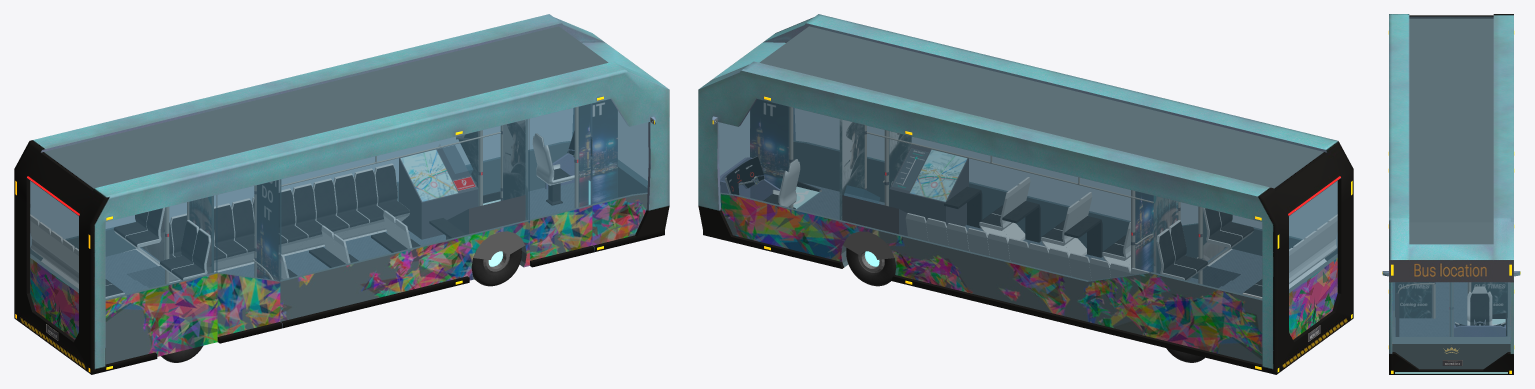
The model's file is bus_aero.glb.
3 views of the same model, side by side, from view 1: azimuth 30°, elevation 25°; view 2: azimuth 150°, elevation 25°; view 3: azimuth 270°, elevation 25° (orthographic). The views are drawn at different scales.
Visible parts, largest first — view 1: DetalhesExterno5, DetalhesExterno1, Vidros, BancosEMesas, Anuncios, PortaDiantera, PortaTraseira, Totem1, TetoeChao, BarrasInterno, Motor, Pneu (+2 smaller); view 2: DetalhesExterno5, Vidros, DetalhesExterno1, BancosEMesas, Anuncios, Totem1, TetoeChao, BarrasInterno, Cabine1, PortaDiantera, Motor, Pneu (+2 smaller); view 3: DetalhesExterno5, DetalhesExterno1, Vidros, TetoeChao, Anuncios, BancosEMesas, Cabine1, FaroisEPlacas, BarrasInterno, LedsInterno.
Boxes of the visible parts, x1=… form: DetalhesExterno5: x1=30, y1=26, x2=647, y2=364; DetalhesExterno1: x1=14, y1=14, x2=669, y2=374; Vidros: x1=30, y1=99, x2=648, y2=299; BancosEMesas: x1=30, y1=133, x2=574, y2=298; Anuncios: x1=142, y1=99, x2=617, y2=280; PortaDiantera: x1=528, y1=103, x2=594, y2=267; PortaTraseira: x1=216, y1=180, x2=282, y2=343; Totem1: x1=399, y1=139, x2=525, y2=239; TetoeChao: x1=105, y1=183, x2=574, y2=293; BarrasInterno: x1=165, y1=107, x2=578, y2=284; Motor: x1=473, y1=231, x2=524, y2=273; Pneu: x1=471, y1=248, x2=521, y2=286; DetalhesExterno5: x1=720, y1=26, x2=1337, y2=364; Vidros: x1=719, y1=99, x2=1337, y2=299; DetalhesExterno1: x1=698, y1=14, x2=1353, y2=374; BancosEMesas: x1=763, y1=159, x2=1337, y2=298; Anuncios: x1=750, y1=99, x2=1225, y2=273; Totem1: x1=842, y1=144, x2=968, y2=236; TetoeChao: x1=797, y1=183, x2=1262, y2=293; BarrasInterno: x1=789, y1=107, x2=1202, y2=283; Cabine1: x1=720, y1=156, x2=779, y2=200; PortaDiantera: x1=847, y1=126, x2=884, y2=202; Motor: x1=843, y1=231, x2=894, y2=272; Pneu: x1=846, y1=248, x2=896, y2=286; DetalhesExterno5: x1=1392, y1=18, x2=1510, y2=369; DetalhesExterno1: x1=1389, y1=14, x2=1513, y2=374; Vidros: x1=1392, y1=282, x2=1510, y2=343; TetoeChao: x1=1395, y1=282, x2=1507, y2=336; Anuncios: x1=1395, y1=282, x2=1507, y2=336; BancosEMesas: x1=1467, y1=286, x2=1492, y2=325; Cabine1: x1=1454, y1=322, x2=1505, y2=336; FaroisEPlacas: x1=1382, y1=31, x2=1520, y2=373; BarrasInterno: x1=1397, y1=282, x2=1471, y2=336; LedsInterno: x1=1395, y1=293, x2=1507, y2=336.
Bounding box in the file's own units: 11.68 × 3.64 × 2.99.
Materials: 8 (8 with a texture image).
